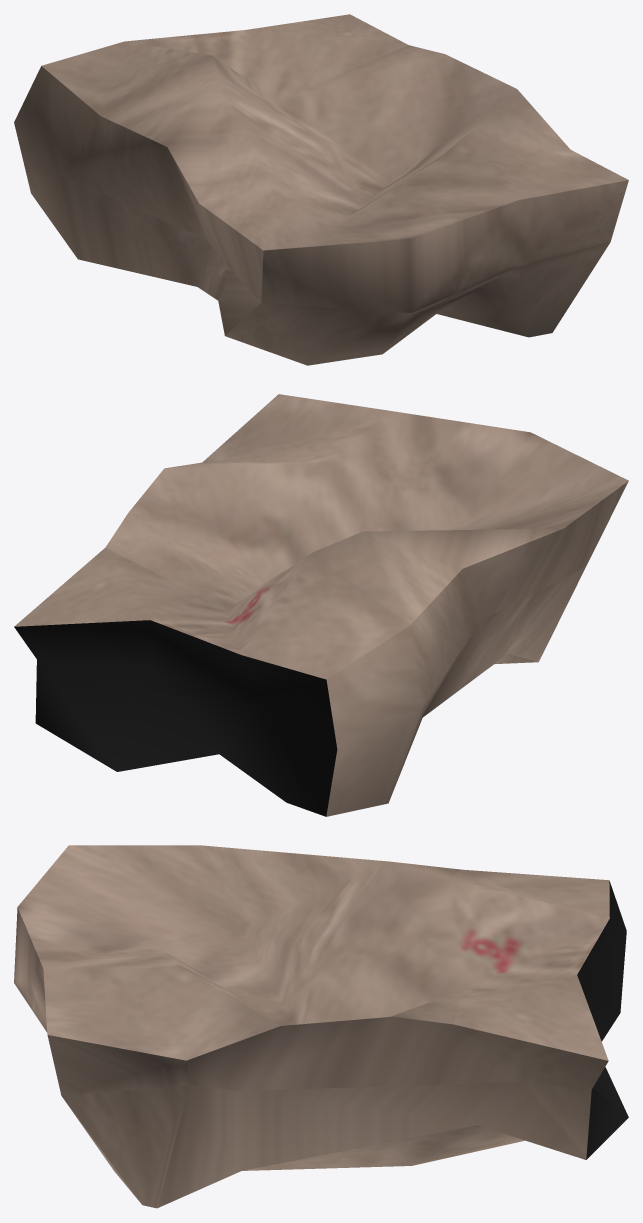
Rendered from cleaning_model_016.fbx.
3 views of the same model, one above another, from view 1: azimuth 30°, elevation 25°; view 2: azimuth 150°, elevation 25°; view 3: azimuth 270°, elevation 25° (orthographic). The views are drawn at different scales.
Visible parts, largest first — view 1: pCube1; view 2: pCube1; view 3: pCube1.
Boxes of the visible parts, <box> form: pCube1: <box>14,14,628,365</box>; pCube1: <box>14,394,628,816</box>; pCube1: <box>14,845,628,1208</box>.
Bounding box in the file's own units: 3.91 × 2.33 × 5.5.
Materials: 1 (1 with a texture image).
